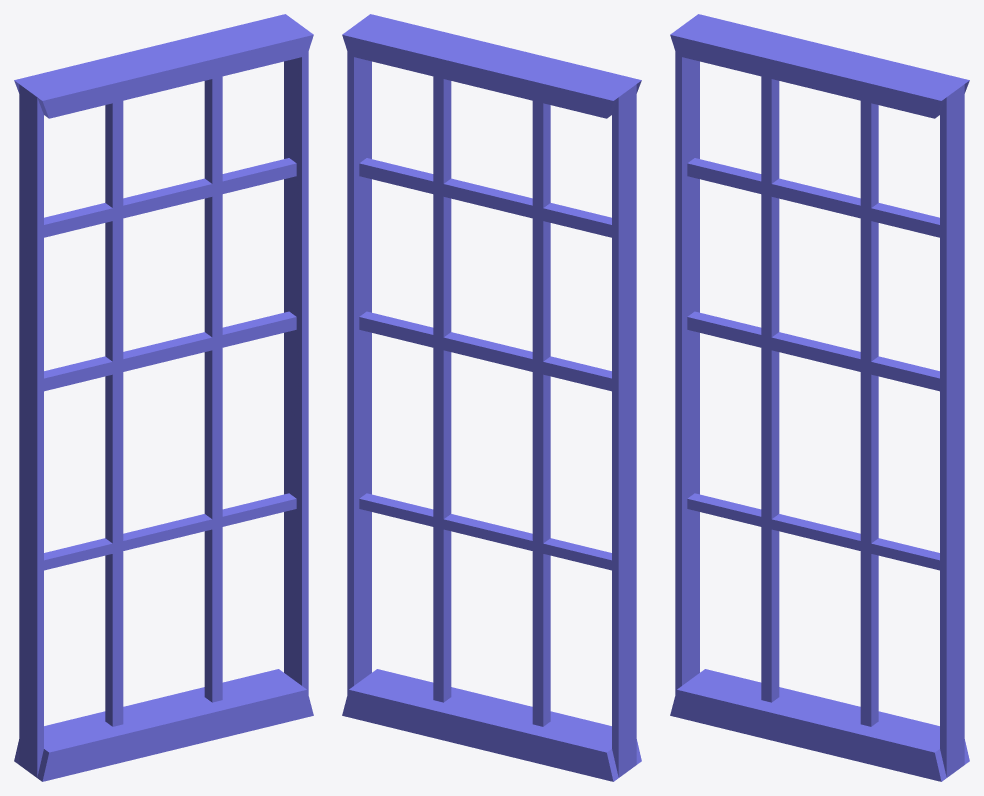
The model's file is Janela.fbx.
The picture shows the model from 3 angles, left to right: view 1: azimuth 30°, elevation 25°; view 2: azimuth 150°, elevation 25°; view 3: azimuth 330°, elevation 25°; orthographic projection.
Parts seen in each view (by area): view 1: Window_Obj; view 2: Window_Obj; view 3: Window_Obj.
Part boxes in pixels (left/top/right/bottom): Window_Obj: left=14, top=14, right=313, bottom=781; Window_Obj: left=342, top=14, right=641, bottom=781; Window_Obj: left=670, top=14, right=969, bottom=781.
Size of the model in its own units: 0.7846 by 1.88 by 0.142.
